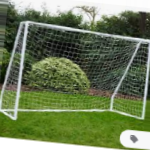goals: (1, 20, 150, 122)
